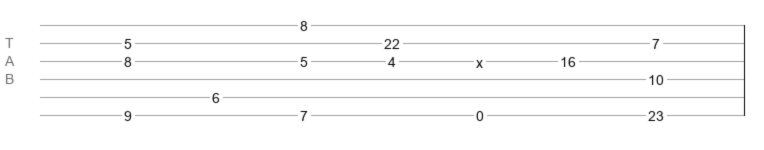0: (476, 108, 484, 118)
10: (648, 72, 664, 82)
16: (560, 54, 576, 64)
22: (384, 36, 400, 46)
23: (648, 108, 664, 118)
4: (388, 54, 396, 64)
5: (124, 36, 132, 46), (300, 54, 308, 64)
6: (212, 90, 220, 100)
7: (300, 108, 308, 118), (652, 36, 660, 46)
8: (124, 54, 132, 64), (300, 18, 308, 28)
9: (124, 108, 132, 118)
x: (476, 55, 483, 63)
